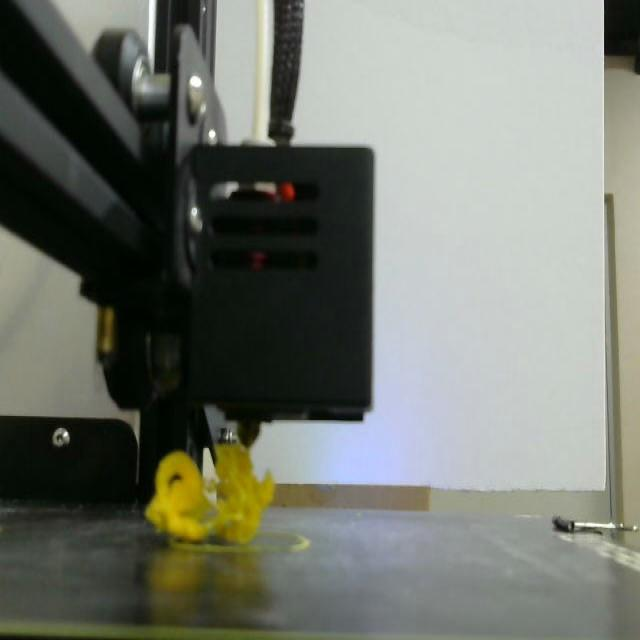spaghetti: (145, 448, 275, 542)
